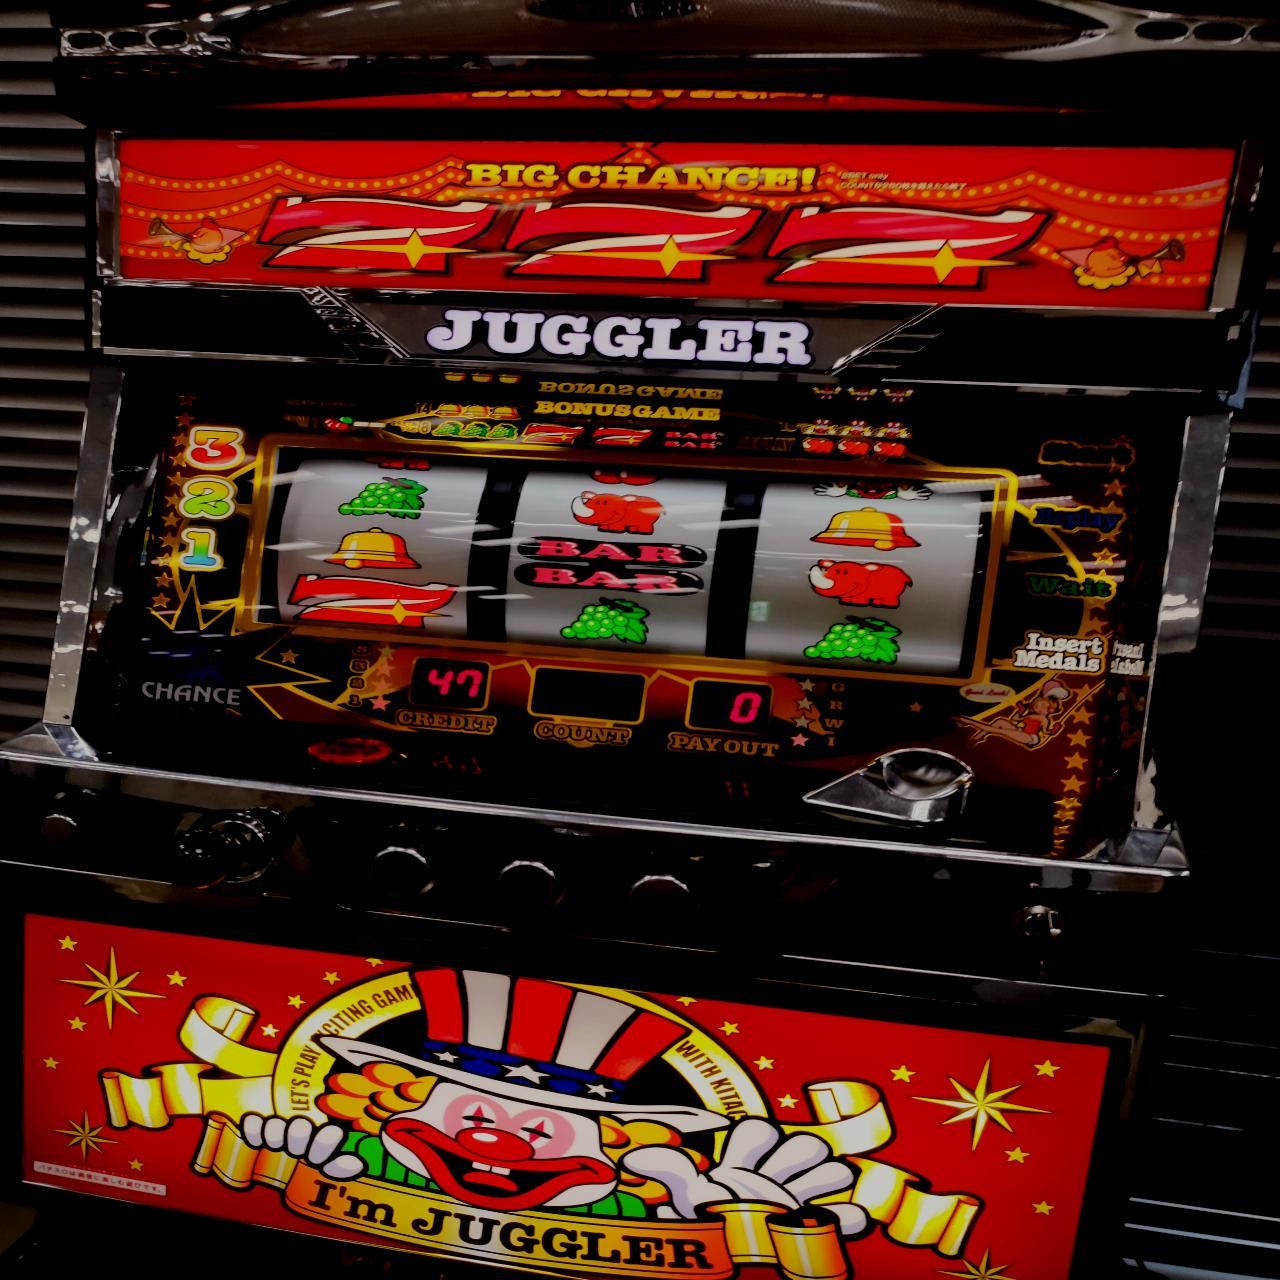7: (285, 570, 458, 628)
8: (805, 557, 918, 608), (568, 489, 670, 535)
Display: (251, 447, 994, 680)
bar: (510, 533, 707, 595)
bell: (813, 503, 924, 549), (325, 529, 417, 571)
grape: (804, 613, 907, 665), (561, 594, 652, 645), (335, 476, 428, 519)
